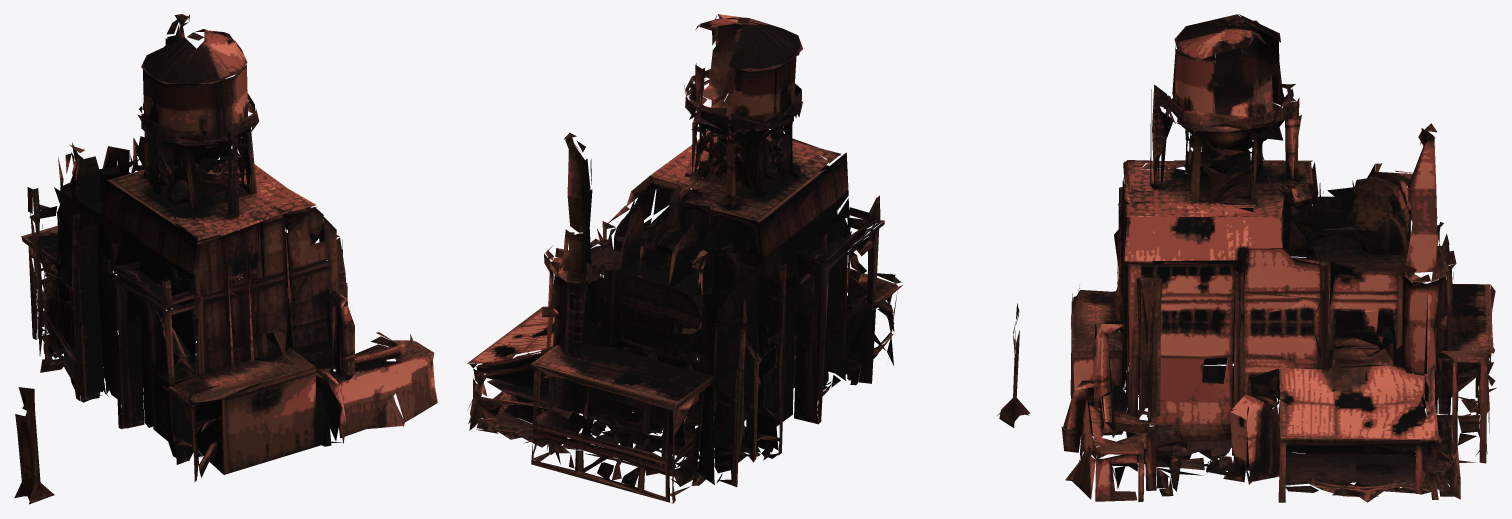
Rendered from sk_factory_b.glb.
3 renders of one model, left to right at view 1: azimuth 30°, elevation 25°; view 2: azimuth 150°, elevation 25°; view 3: azimuth 270°, elevation 25°, orthographic. The views are drawn at different scales.
Visible parts, largest first — view 1: sk_factory_b; view 2: sk_factory_b; view 3: sk_factory_b.
Part boxes in pixels (x1,y1,x2,y2): sk_factory_b: (14, 14, 437, 504); sk_factory_b: (467, 14, 1030, 503); sk_factory_b: (1061, 14, 1496, 502).
Bounding box in the file's own units: 1 × 0.9086 × 0.8799.
1 material, 1 textured.
